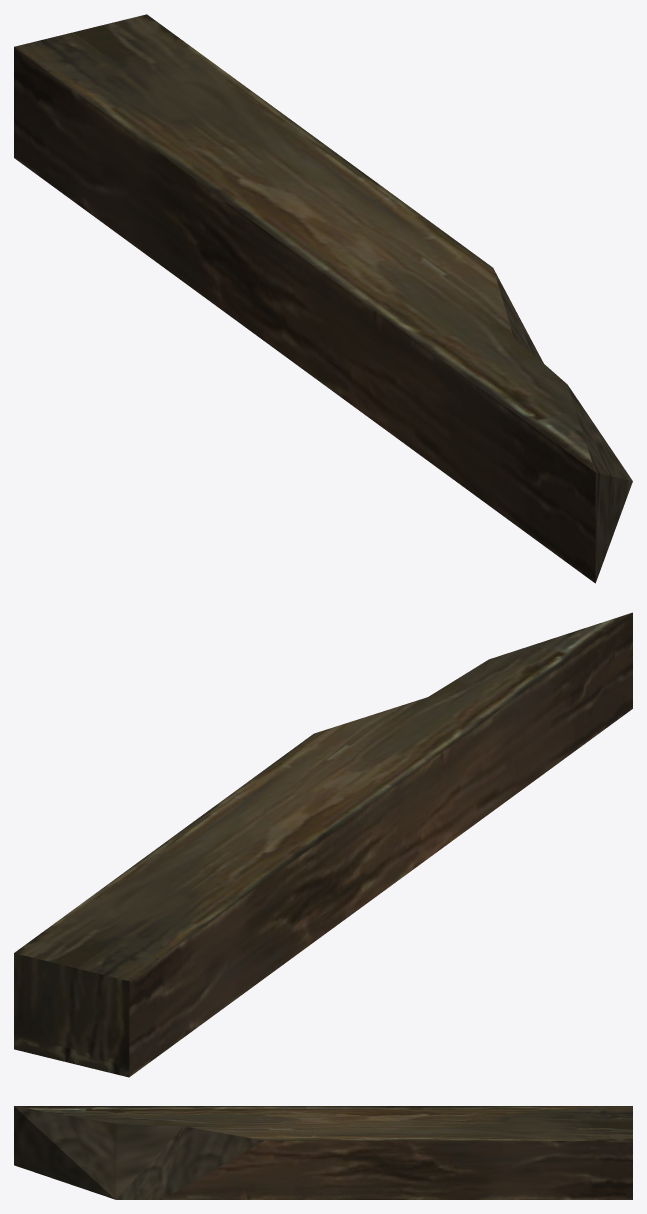
File: Z_mutou004.fbx
3 views of the same model, one above another, from view 1: azimuth 30°, elevation 25°; view 2: azimuth 150°, elevation 25°; view 3: azimuth 270°, elevation 25° (orthographic). The views are drawn at different scales.
Parts seen in each view (by area): view 1: Z_mutou004; view 2: Z_mutou004; view 3: Z_mutou004.
Boxes of the visible parts, <box> form: Z_mutou004: <box>14,14,632,583</box>; Z_mutou004: <box>14,612,632,1077</box>; Z_mutou004: <box>14,1106,632,1199</box>.
Size of the model in its own units: 81.6 by 65.2 by 618.
